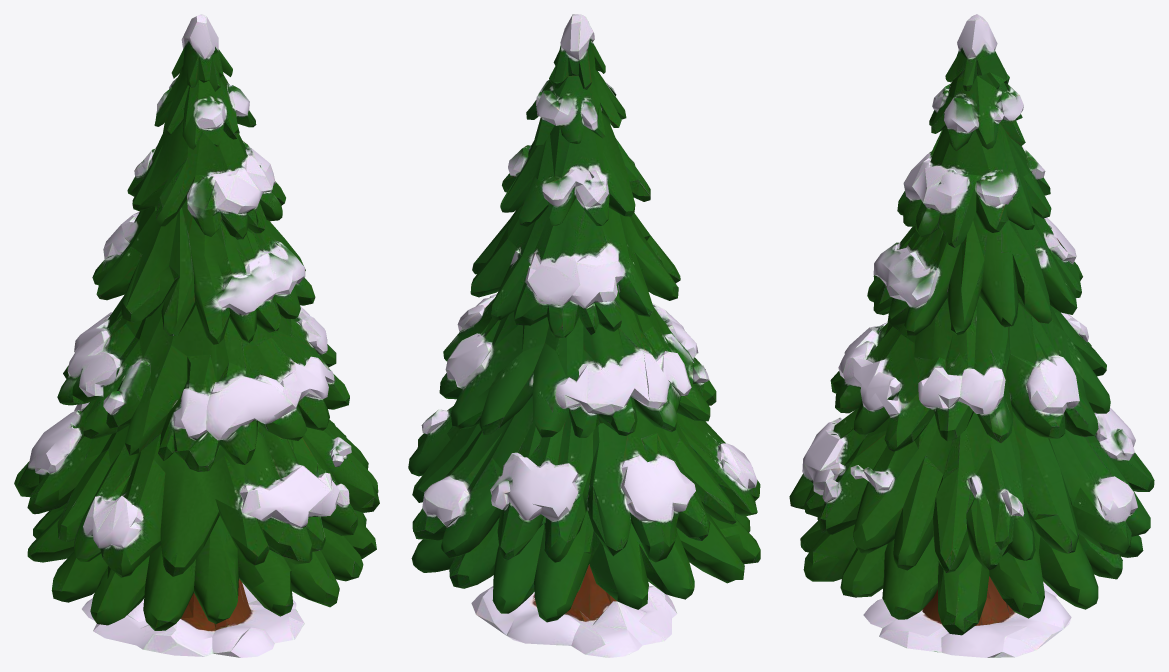
Rendered from tree_a.glb.
3 views of the same model, side by side, from view 1: azimuth 30°, elevation 25°; view 2: azimuth 150°, elevation 25°; view 3: azimuth 270°, elevation 25° (orthographic).
Parts seen in each view (by area): view 1: output_unwrapped; view 2: output_unwrapped; view 3: output_unwrapped.
Part boxes in pixels (x1,y1,x2,y2): output_unwrapped: (14,14,379,657); output_unwrapped: (408,14,760,657); output_unwrapped: (789,14,1154,657).
Size of the model in its own units: 1.03 by 1.9 by 1.05.
Materials: 1 (1 with a texture image).
